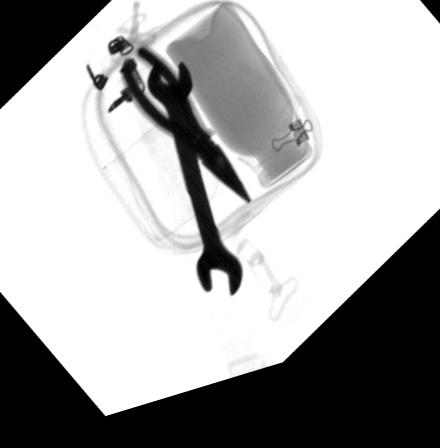Pliers: (118, 49, 253, 217)
Wrench: (143, 64, 242, 311)
